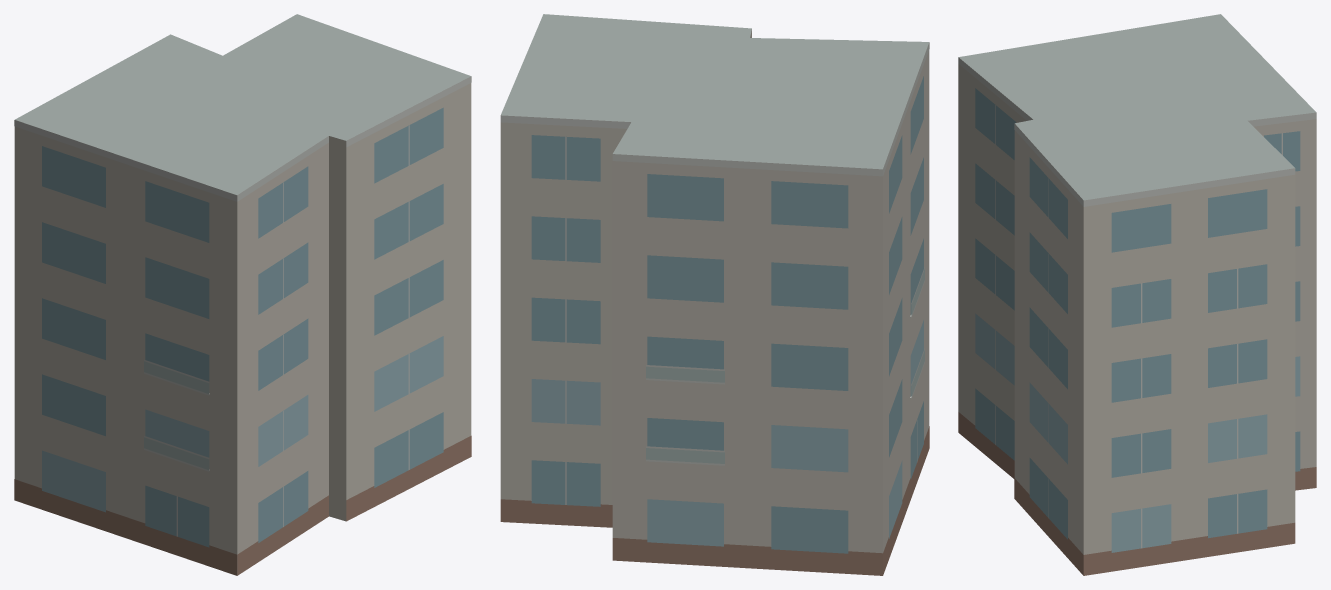
The model's file is survey-upis-32956412.glb.
3 renders of one model, left to right at view 1: azimuth 30°, elevation 25°; view 2: azimuth 150°, elevation 25°; view 3: azimuth 270°, elevation 25°, orthographic. The views are drawn at different scales.
Parts seen in each view (by area): view 1: survey-upis-32956412.tmp; view 2: survey-upis-32956412.tmp; view 3: survey-upis-32956412.tmp.
Boxes of the visible parts, box(x1,y1,x2,y2) form: survey-upis-32956412.tmp: box(14, 14, 471, 575); survey-upis-32956412.tmp: box(500, 14, 929, 575); survey-upis-32956412.tmp: box(958, 14, 1316, 575).
Size of the model in its own units: 15.03 by 14.1 by 12.21.
